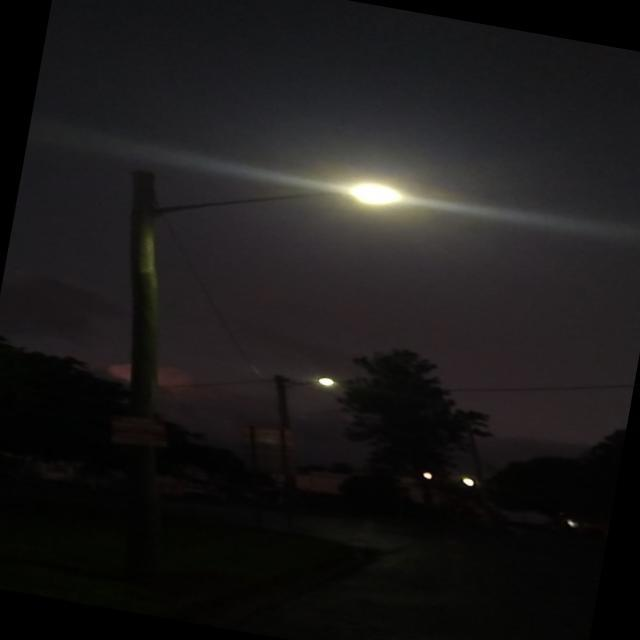on: (320, 126, 408, 276)
